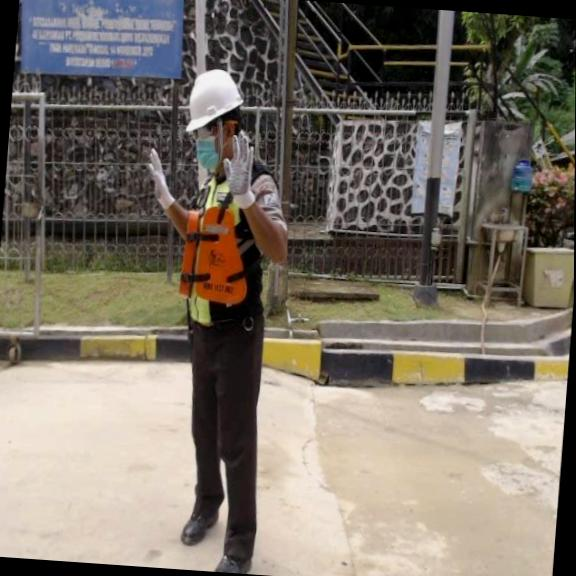safety_vest: (173, 210, 255, 314)
